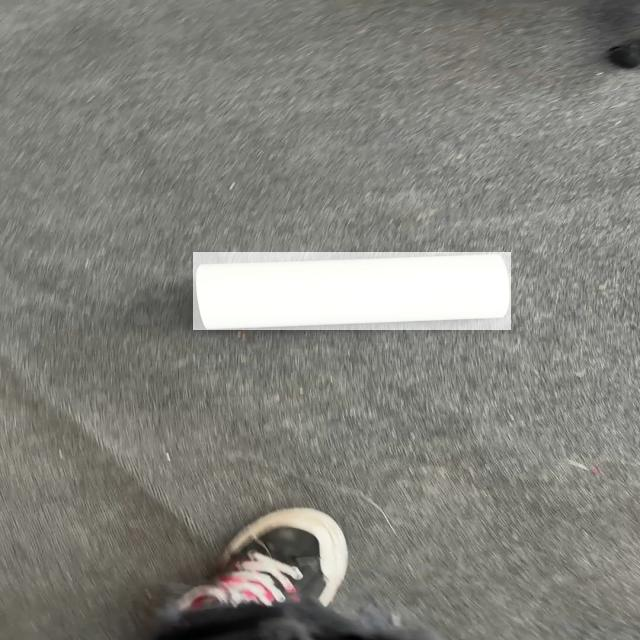Coral: (193, 252, 511, 330)
